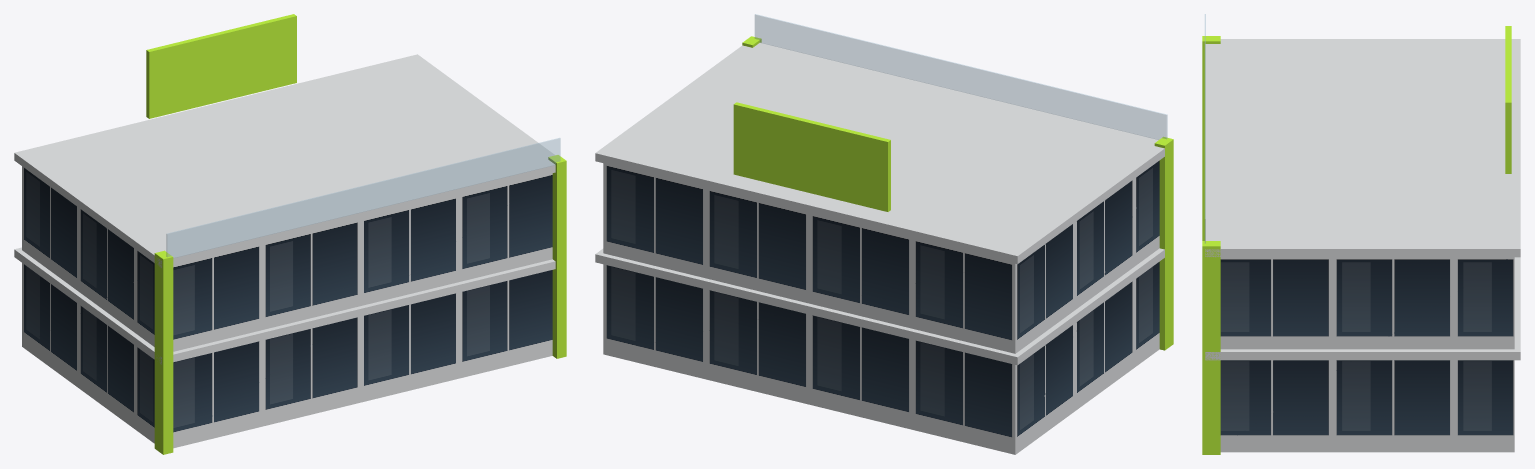
The model's file is hospitality_c.glb.
3 views of the same model, side by side, from view 1: azimuth 30°, elevation 25°; view 2: azimuth 150°, elevation 25°; view 3: azimuth 270°, elevation 25° (orthographic). The views are drawn at different scales.
Visible parts, largest first — view 1: hospitality; view 2: hospitality; view 3: hospitality.
Part boxes in pixels (x1=…): hospitality: x1=14, y1=14, x2=566, y2=454; hospitality: x1=595, y1=14, x2=1173, y2=454; hospitality: x1=1202, y1=14, x2=1520, y2=454.
Size of the model in its own units: 16.4 by 10.4 by 10.5.
4 materials, 1 textured.
